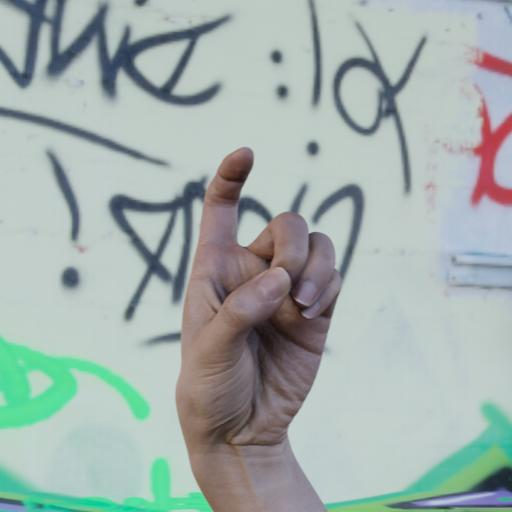X: (172, 143, 347, 452)
